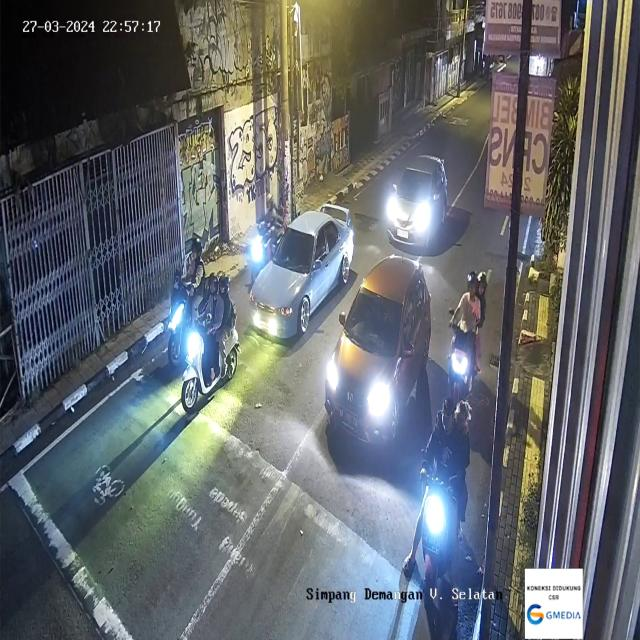car: (323, 252, 429, 457), (250, 210, 357, 342), (384, 156, 450, 255)
motorcycle: (413, 399, 474, 611), (184, 272, 239, 414), (448, 270, 491, 432), (168, 242, 210, 365), (248, 196, 288, 276)
